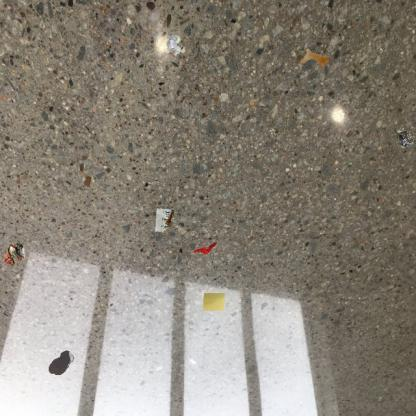dirty: (77, 160, 97, 192), (2, 240, 26, 266), (201, 291, 227, 313), (154, 207, 174, 233), (394, 127, 415, 150), (192, 240, 218, 257), (164, 33, 182, 57)
liquid: (48, 349, 76, 376), (299, 48, 330, 68)
